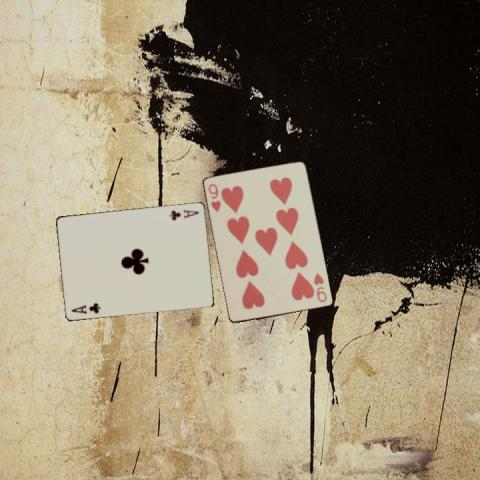9h: (311, 270, 328, 304), (205, 181, 222, 214)
Ac: (167, 206, 200, 221), (69, 300, 102, 315)
